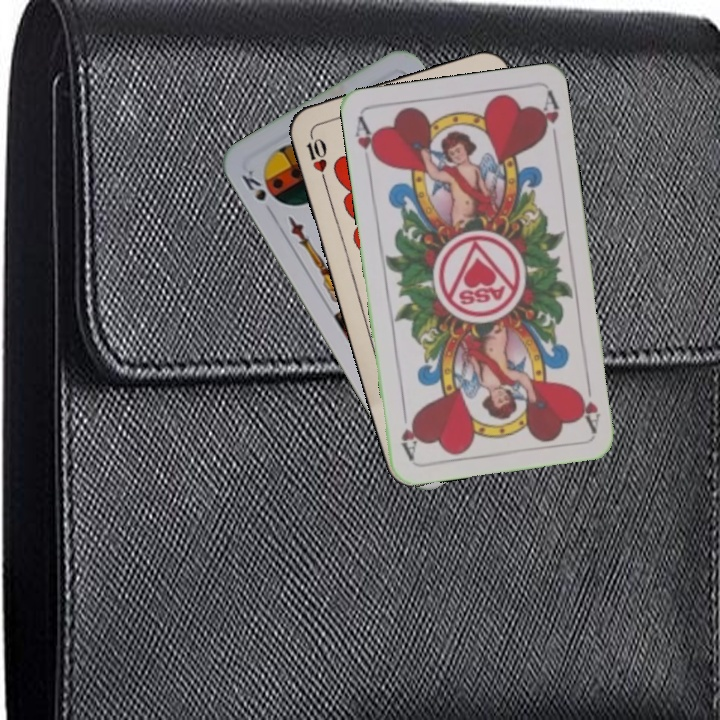H10: (302, 127, 330, 186)
HA: (574, 375, 603, 434), (350, 113, 382, 166)
SK: (237, 165, 269, 204)
